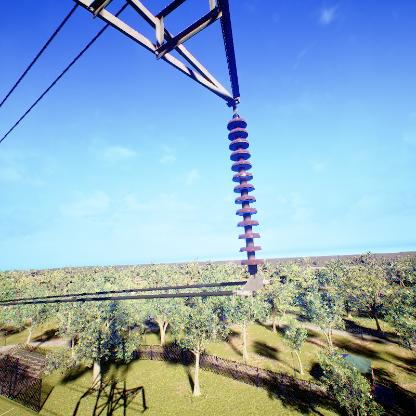insulator: (226, 116, 267, 273)
